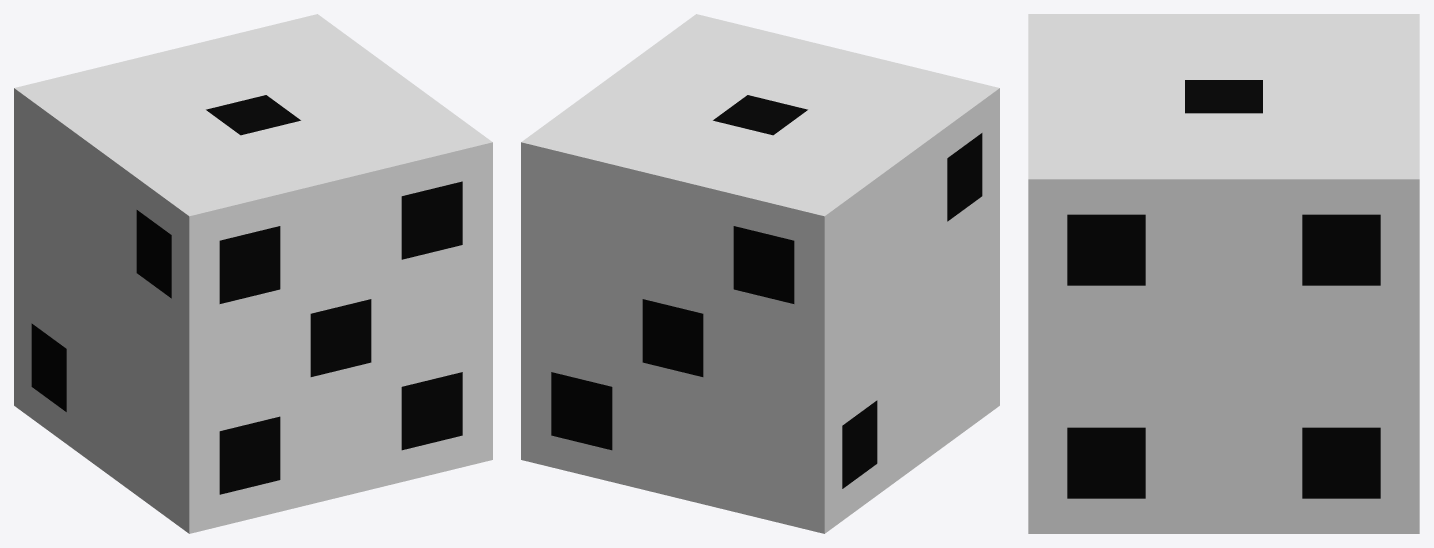
Rendered from dado.obj.
The picture shows the model from 3 angles, left to right: view 1: azimuth 30°, elevation 25°; view 2: azimuth 150°, elevation 25°; view 3: azimuth 270°, elevation 25°; orthographic projection. The views are drawn at different scales.
Size of the model in its own units: 1 by 1 by 1.
1 material, 1 textured.
